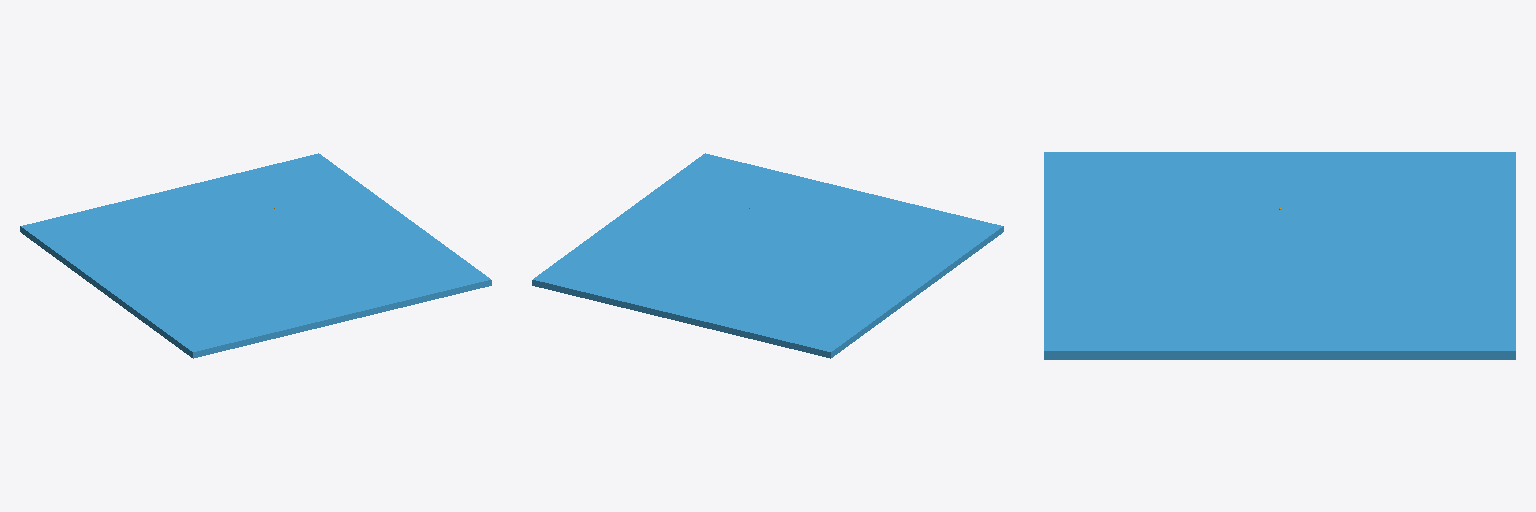
The robot description file, URDF, robot "panda":
<?xml version="1.0" encoding="utf-8"?>
<!-- =================================================================================== -->
<!-- |    This document is a hand edited version of the output autogenerated by xacro  | -->
<!-- |    from panda_arm.urdf.xacro                                                         | -->
<!-- =================================================================================== -->
<robot xmlns:drake="http://drake.mit.edu" name="panda">
  <link name="panda_link0">
    <inertial>
      <mass value="2.92"/>
      <origin xyz="-0.025566 -2.88e-05 0.057332" rpy="0 0 0"/>
      <inertia ixx="0.00782229414331" ixy="-1.56191622996e-05" ixz="-0.00126005738123" iyy="0.0109027971813" iyz="1.08233858202e-05" izz="0.0102355503949"/>
    </inertial>
    <visual>
      <origin rpy="1.57079632679 0 0"/>
      <geometry>
        <mesh filename="package://drake_models/franka_description/meshes/visual/link0.obj"/>
      </geometry>
    </visual>
    <collision>
      <origin rpy="0 0 0" xyz="0.02 0.0 0.04"/>
      <geometry>
        <sphere radius="0.06"/>
      </geometry>
    </collision>
    <collision>
      <origin rpy="0 0 0" xyz="0.01 0.05 0.06"/>
      <geometry>
        <sphere radius="0.06"/>
      </geometry>
    </collision>
    <collision>
      <origin rpy="0 0 0" xyz="0.01 -0.05 0.06"/>
      <geometry>
        <sphere radius="0.06"/>
      </geometry>
    </collision>
    <collision>
      <origin rpy="0 0 0" xyz="-0.06 0.0 0.06"/>
      <geometry>
        <sphere radius="0.06"/>
      </geometry>
    </collision>
    <collision>
      <origin rpy="0 0 0" xyz="-0.06 0.05 0.06"/>
      <geometry>
        <sphere radius="0.06"/>
      </geometry>
    </collision>
    <collision>
      <origin rpy="0 0 0" xyz="-0.03 0.05 0.06"/>
      <geometry>
        <sphere radius="0.06"/>
      </geometry>
    </collision>
    <collision>
      <origin rpy="0 0 0" xyz="-0.03 -0.05 0.06"/>
      <geometry>
        <sphere radius="0.06"/>
      </geometry>
    </collision>
    <collision>
      <origin rpy="0 0 0" xyz="-0.06 -0.05 0.06"/>
      <geometry>
        <sphere radius="0.06"/>
      </geometry>
    </collision>
    <collision>
      <origin rpy="0 0 0" xyz="-0.09 -0.05 0.06"/>
      <geometry>
        <sphere radius="0.06"/>
      </geometry>
    </collision>
    <collision>
      <origin rpy="0 0 0" xyz="-0.09 0.0 0.06"/>
      <geometry>
        <sphere radius="0.06"/>
      </geometry>
    </collision>
    <collision>
      <origin rpy="0 0 0" xyz="-0.09 0.05 0.06"/>
      <geometry>
        <sphere radius="0.06"/>
      </geometry>
    </collision>
    <collision>
      <origin rpy="0 0 0" xyz="-0.12 0.0 0.06"/>
      <geometry>
        <sphere radius="0.06"/>
      </geometry>
    </collision>
    <collision>
      <origin rpy="0 0 0" xyz="0.0 0.0 0.113"/>
      <geometry>
        <sphere radius="0.06"/>
      </geometry>
    </collision>
    <collision>
      <origin rpy="0 0 0" xyz="0.0 0.0 0.083"/>
      <geometry>
        <sphere radius="0.06"/>
      </geometry>
    </collision>
  </link>
  <link name="panda_link1">
    <inertial>
      <mass value="2.74"/>
      <origin xyz="0 -0.0324958 -0.0675818" rpy="0 0 0"/>
      <inertia ixx="0.0180416958283" ixy="0.0" ixz="0.0" iyy="0.0159136071891" iyz="0.0046758424612" izz="0.00620690827127"/>
    </inertial>
    <visual>
      <origin rpy="1.57079632679 0 0"/>
      <geometry>
        <mesh filename="package://drake_models/franka_description/meshes/visual/link1.obj"/>
      </geometry>
    </visual>
    <collision>
      <origin rpy="0 0 0" xyz="0.0 0.0 -0.13"/>
      <geometry>
        <sphere radius="0.06"/>
      </geometry>
    </collision>
    <collision>
      <origin rpy="0 0 0" xyz="0.0 0.0 -0.16"/>
      <geometry>
        <sphere radius="0.06"/>
      </geometry>
    </collision>
    <collision>
      <origin rpy="0 0 0" xyz="0.0 0.0 -0.19"/>
      <geometry>
        <sphere radius="0.06"/>
      </geometry>
    </collision>
    <collision>
      <origin rpy="0 0 0" xyz="0.0 -0.04 -0.06"/>
      <geometry>
        <sphere radius="0.06"/>
      </geometry>
    </collision>
    <collision>
      <origin rpy="0 0 0" xyz="0.0 -0.0750 -0.0"/>
      <geometry>
        <sphere radius="0.06"/>
      </geometry>
    </collision>
    <collision>
      <origin rpy="0 0 0" xyz="0.0 -0.0350 -0.0"/>
      <geometry>
        <sphere radius="0.06"/>
      </geometry>
    </collision>
  </link>
  <joint name="panda_joint1" type="revolute">
    <origin rpy="0 0 0" xyz="0 0 0.333"/>
    <parent link="panda_link0"/>
    <child link="panda_link1"/>
    <axis xyz="0 0 1"/>
    <limit effort="87" lower="-2.8973" upper="2.8973" velocity="2.1750"/>
  </joint>
  <link name="panda_link2">
    <inertial>
      <mass value="2.74"/>
      <origin xyz="0 -0.06861 0.0322285" rpy="0 0 0"/>
      <inertia ixx="0.0182856182281" ixy="0.0" ixz="0.0" iyy="0.00621358421175" iyz="-0.00472844221905" izz="0.0161514346309"/>
    </inertial>
    <visual>
      <origin rpy="1.57079632679 0 0"/>
      <geometry>
        <mesh filename="package://drake_models/franka_description/meshes/visual/link2.obj"/>
      </geometry>
    </visual>
    <collision>
      <origin rpy="0 0 0" xyz="0.0 0.0 0.0"/>
      <geometry>
        <sphere radius="0.06"/>
      </geometry>
    </collision>
    <collision>
      <origin rpy="0 0 0" xyz="0.0 0.0 0.035"/>
      <geometry>
        <sphere radius="0.06"/>
      </geometry>
    </collision>
    <collision>
      <origin rpy="0 0 0" xyz="0.0 0.0 0.075"/>
      <geometry>
        <sphere radius="0.06"/>
      </geometry>
    </collision>
    <collision>
      <origin rpy="0 0 0" xyz="0.0 -0.1710 0.0"/>
      <geometry>
        <sphere radius="0.06"/>
      </geometry>
    </collision>
    <collision>
      <origin rpy="0 0 0" xyz="0.0 -0.1360 0.0"/>
      <geometry>
        <sphere radius="0.06"/>
      </geometry>
    </collision>
    <collision>
      <origin rpy="0 0 0" xyz="0.0 -0.070 0.040"/>
      <geometry>
        <sphere radius="0.06"/>
      </geometry>
    </collision>
  </link>
  <joint name="panda_joint2" type="revolute">
    <origin rpy="-1.57079632679 0 0" xyz="0 0 0"/>
    <parent link="panda_link1"/>
    <child link="panda_link2"/>
    <axis xyz="0 0 1"/>
    <limit effort="87" lower="-1.7628" upper="1.7628" velocity="2.1750"/>
  </joint>
  <link name="panda_link3">
    <inertial>
      <mass value="2.38"/>
      <origin xyz="0.0469893 0.0316374 -0.031704" rpy="0 0 0"/>
      <inertia ixx="0.00771376630908" ixy="-0.00248490625138" ixz="-0.00332147581033" iyy="0.00989108008727" iyz="-0.00217796151484" izz="0.00811723558464"/>
    </inertial>
    <visual>
      <origin rpy="1.57079632679 0 0"/>
      <geometry>
        <mesh filename="package://drake_models/franka_description/meshes/visual/link3.obj"/>
      </geometry>
    </visual>
    <collision>
      <origin rpy="0 0 0" xyz="0.0 0.0 -0.11"/>
      <geometry>
        <sphere radius="0.06"/>
      </geometry>
    </collision>
    <collision>
      <origin rpy="0 0 0" xyz="0.0 0.0 -0.07"/>
      <geometry>
        <sphere radius="0.06"/>
      </geometry>
    </collision>
    <collision>
      <origin rpy="0 0 0" xyz="0.0825 0.03 -0.0"/>
      <geometry>
        <sphere radius="0.06"/>
      </geometry>
    </collision>
    <collision>
      <origin rpy="0 0 0" xyz="0.0825 0.06 -0.0"/>
      <geometry>
        <sphere radius="0.06"/>
      </geometry>
    </collision>
    <collision>
      <origin rpy="0 0 0" xyz="0.04 0.03 -0.03"/>
      <geometry>
        <sphere radius="0.06"/>
      </geometry>
    </collision>
  </link>
  <joint name="panda_joint3" type="revolute">
    <origin rpy="1.57079632679 0 0" xyz="0 -0.316 0"/>
    <parent link="panda_link2"/>
    <child link="panda_link3"/>
    <axis xyz="0 0 1"/>
    <limit effort="87" lower="-2.8973" upper="2.8973" velocity="2.1750"/>
  </joint>
  <link name="panda_link4">
    <inertial>
      <mass value="2.38"/>
      <origin xyz="-0.0360446 0.0336853 0.031882" rpy="0 0 0"/>
      <inertia ixx="0.00799663881132" ixy="0.00347095570217" ixz="-0.00241222942995" iyy="0.00825390705278" iyz="0.00235774044121" izz="0.0102515004345"/>
    </inertial>
    <visual>
      <origin rpy="1.57079632679 0 0"/>
      <geometry>
        <mesh filename="package://drake_models/franka_description/meshes/visual/link4.obj"/>
      </geometry>
    </visual>
    <collision>
      <origin rpy="0 0 0" xyz="0.0 0.0 0.06"/>
      <geometry>
        <sphere radius="0.06"/>
      </geometry>
    </collision>
    <collision>
      <origin rpy="0 0 0" xyz="0.0 0.0 0.03"/>
      <geometry>
        <sphere radius="0.06"/>
      </geometry>
    </collision>
    <collision>
      <origin rpy="0 0 0" xyz="-0.0350 0.03 0.04"/>
      <geometry>
        <sphere radius="0.05"/>
      </geometry>
    </collision>
    <collision>
      <origin rpy="0 0 0" xyz="-0.05 0.04 0.01"/>
      <geometry>
        <sphere radius="0.055"/>
      </geometry>
    </collision>
    <collision>
      <origin rpy="0 0 0" xyz="0.0 0.0 0.0"/>
      <geometry>
        <sphere radius="0.06"/>
      </geometry>
    </collision>
    <collision>
      <origin rpy="0 0 0" xyz="-0.0825 0.0640 -0.0"/>
      <geometry>
        <sphere radius="0.06"/>
      </geometry>
    </collision>
    <collision>
      <origin rpy="0 0 0" xyz="-0.0825 0.1040 -0.0"/>
      <geometry>
        <sphere radius="0.06"/>
      </geometry>
    </collision>
  </link>
  <joint name="panda_joint4" type="revolute">
    <origin rpy="1.57079632679 0 0" xyz="0.0825 0 0"/>
    <parent link="panda_link3"/>
    <child link="panda_link4"/>
    <axis xyz="0 0 1"/>
    <limit effort="87" lower="-3.0718" upper="-0.0698" velocity="2.1750"/>
  </joint>
  <link name="panda_link5">
    <inertial>
      <mass value="2.74"/>
      <origin xyz="0 0.0610427 -0.104176" rpy="0 0 0"/>
      <inertia ixx="0.030371374513" ixy="6.50283587108e-07" ixz="-1.05129179916e-05" iyy="0.0288752887402" iyz="-0.00775653445787" izz="0.00444134056164"/>
    </inertial>
    <visual>
      <origin rpy="1.57079632679 0 0"/>
      <geometry>
        <mesh filename="package://drake_models/franka_description/meshes/visual/link5.obj"/>
      </geometry>
    </visual>
    <collision>
      <origin rpy="0 0 0" xyz="0.0 0.0 -0.24"/>
      <geometry>
        <sphere radius="0.06"/>
      </geometry>
    </collision>
    <collision>
      <origin rpy="0 0 0" xyz="0.0 0.0 -0.21"/>
      <geometry>
        <sphere radius="0.06"/>
      </geometry>
    </collision>
    <collision>
      <origin rpy="0 0 0" xyz="0.0 0.09 -0.055"/>
      <geometry>
        <sphere radius="0.035"/>
      </geometry>
    </collision>
    <collision>
      <origin rpy="0 0 0" xyz="0.0 0.0850 -0.08"/>
      <geometry>
        <sphere radius="0.035"/>
      </geometry>
    </collision>
    <collision>
      <origin rpy="0 0 0" xyz="0.0 0.0850 -0.11"/>
      <geometry>
        <sphere radius="0.035"/>
      </geometry>
    </collision>
    <collision>
      <origin rpy="0 0 0" xyz="0.0 0.08 -0.13"/>
      <geometry>
        <sphere radius="0.035"/>
      </geometry>
    </collision>
    <collision>
      <origin rpy="0 0 0" xyz="0.0 0.08 -0.15"/>
      <geometry>
        <sphere radius="0.035"/>
      </geometry>
    </collision>
    <collision>
      <origin rpy="0 0 0" xyz="0.0 0.07 -0.16"/>
      <geometry>
        <sphere radius="0.04"/>
      </geometry>
    </collision>
    <collision>
      <origin rpy="0 0 0" xyz="0.0 0.08 -0.02"/>
      <geometry>
        <sphere radius="0.05"/>
      </geometry>
    </collision>
    <collision>
      <origin rpy="0 0 0" xyz="0.0 0.08 -0.0"/>
      <geometry>
        <sphere radius="0.055"/>
      </geometry>
    </collision>
    <collision>
      <origin rpy="0 0 0" xyz="0.0 0.05 -0.20"/>
      <geometry>
        <sphere radius="0.055"/>
      </geometry>
    </collision>
    <collision>
      <origin rpy="0 0 0" xyz="0.0 0.07 -0.0"/>
      <geometry>
        <sphere radius="0.06"/>
      </geometry>
    </collision>
  </link>
  <joint name="panda_joint5" type="revolute">
    <origin rpy="-1.57079632679 0 0" xyz="-0.0825 0.384 0"/>
    <parent link="panda_link4"/>
    <child link="panda_link5"/>
    <axis xyz="0 0 1"/>
    <limit effort="12" lower="-2.8973" upper="2.8973" velocity="2.610"/>
  </joint>
  <link name="panda_link6">
    <inertial>
      <mass value="1.55"/>
      <origin xyz="0.0510509 0.009108 0.0106343" rpy="0 0 0"/>
      <inertia ixx="0.00303336450376" ixy="-0.000437276865508" ixz="0.000629257294877" iyy="0.00404479911567" iyz="0.000130472021025" izz="0.00558234286039"/>
    </inertial>
    <visual>
      <origin rpy="1.57079632679 0 0"/>
      <geometry>
        <mesh filename="package://drake_models/franka_description/meshes/visual/link6.obj"/>
      </geometry>
    </visual>
    <collision>
      <origin rpy="0 0 0" xyz="0.08 0.03 0.0"/>
      <geometry>
        <sphere radius="0.06"/>
      </geometry>
    </collision>
    <collision>
      <origin rpy="0 0 0" xyz="0.04 0.01 0.0"/>
      <geometry>
        <sphere radius="0.06"/>
      </geometry>
    </collision>
    <collision>
      <origin rpy="0 0 0" xyz="0.04 0.0 0.0"/>
      <geometry>
        <sphere radius="0.06"/>
      </geometry>
    </collision>
    <collision>
      <origin rpy="0 0 0" xyz="0.0 0.0 0.01"/>
      <geometry>
        <sphere radius="0.06"/>
      </geometry>
    </collision>
    <collision>
      <origin rpy="0 0 0" xyz="0.0 0.0 -0.03"/>
      <geometry>
        <sphere radius="0.05"/>
      </geometry>
    </collision>
  </link>
  <joint name="panda_joint6" type="revolute">
    <origin rpy="1.57079632679 0 0" xyz="0 0 0"/>
    <parent link="panda_link5"/>
    <child link="panda_link6"/>
    <axis xyz="0 0 1"/>
    <limit effort="12" lower="-0.0175" upper="3.7525" velocity="2.610"/>
  </joint>
  <link name="panda_link7">
    <inertial>
      <mass value="0.54"/>
      <origin xyz="0.0109695 0.0107965 0.0650411" rpy="0 0 0"/>
      <inertia ixx="0.000888868887021" ixy="-0.00012239074652" ixz="3.98699829666e-05" iyy="0.000888001373233" iyz="-9.33825115206e-05" izz="0.0007176834609"/>
    </inertial>
    <visual>
      <origin rpy="1.57079632679 0 0"/>
      <geometry>
        <mesh filename="package://drake_models/franka_description/meshes/visual/link7.obj"/>
      </geometry>
    </visual>
    <collision>
      <origin rpy="0 0 0" xyz="0 0 0.06"/>
      <geometry>
        <sphere radius="0.06"/>
      </geometry>
    </collision>
    <collision>
      <origin rpy="0 0 0" xyz="0 0 0.01"/>
      <geometry>
        <sphere radius="0.05"/>
      </geometry>
    </collision>
  </link>
  <joint name="panda_joint7" type="revolute">
    <origin rpy="1.57079632679 0 0" xyz="0.088 0 0"/>
    <parent link="panda_link6"/>
    <child link="panda_link7"/>
    <axis xyz="0 0 1"/>
    <limit effort="12" lower="-2.8973" upper="2.8973" velocity="2.610"/>
  </joint>
  <link name="panda_link8">
    <collision>
      <origin rpy="0 0 0" xyz="0 0 0.05"/>
      <geometry>
        <sphere radius="0.01"/>
      </geometry>
    </collision>
    <visual>
      <origin rpy="0 0 0" xyz="0 0 0.05"/>
      <geometry>
        <sphere radius="0.01"/>
      </geometry>
    </visual>
  </link>
  <joint name="panda_joint8" type="fixed">
    <origin rpy="0 0 0" xyz="0 0 0.107"/>
    <parent link="panda_link7"/>
    <child link="panda_link8"/>
  </joint>
  <transmission name="panda_tran1">
    <type>transmission_interface/SimpleTransmission</type>
    <joint name="panda_joint1">
      <hardwareInterface>PositionJointInterface</hardwareInterface>
    </joint>
    <actuator name="panda_motor1">
      <hardwareInterface>PositionJointInterface</hardwareInterface>
      <mechanicalReduction>1</mechanicalReduction>
    </actuator>
  </transmission>
  <transmission name="panda_tran2">
    <type>transmission_interface/SimpleTransmission</type>
    <joint name="panda_joint2">
      <hardwareInterface>PositionJointInterface</hardwareInterface>
    </joint>
    <actuator name="panda_motor2">
      <hardwareInterface>PositionJointInterface</hardwareInterface>
      <mechanicalReduction>1</mechanicalReduction>
    </actuator>
  </transmission>
  <transmission name="panda_tran3">
    <type>transmission_interface/SimpleTransmission</type>
    <joint name="panda_joint3">
      <hardwareInterface>PositionJointInterface</hardwareInterface>
    </joint>
    <actuator name="panda_motor3">
      <hardwareInterface>PositionJointInterface</hardwareInterface>
      <mechanicalReduction>1</mechanicalReduction>
    </actuator>
  </transmission>
  <transmission name="panda_tran4">
    <type>transmission_interface/SimpleTransmission</type>
    <joint name="panda_joint4">
      <hardwareInterface>PositionJointInterface</hardwareInterface>
    </joint>
    <actuator name="panda_motor4">
      <hardwareInterface>PositionJointInterface</hardwareInterface>
      <mechanicalReduction>1</mechanicalReduction>
    </actuator>
  </transmission>
  <transmission name="panda_tran5">
    <type>transmission_interface/SimpleTransmission</type>
    <joint name="panda_joint5">
      <hardwareInterface>PositionJointInterface</hardwareInterface>
    </joint>
    <actuator name="panda_motor5">
      <hardwareInterface>PositionJointInterface</hardwareInterface>
      <mechanicalReduction>1</mechanicalReduction>
    </actuator>
  </transmission>
  <transmission name="panda_tran6">
    <type>transmission_interface/SimpleTransmission</type>
    <joint name="panda_joint6">
      <hardwareInterface>PositionJointInterface</hardwareInterface>
    </joint>
    <actuator name="panda_motor6">
      <hardwareInterface>PositionJointInterface</hardwareInterface>
      <mechanicalReduction>1</mechanicalReduction>
    </actuator>
  </transmission>
  <transmission name="panda_tran7">
    <type>transmission_interface/SimpleTransmission</type>
    <joint name="panda_joint7">
      <hardwareInterface>PositionJointInterface</hardwareInterface>
    </joint>
    <actuator name="panda_motor7">
      <hardwareInterface>PositionJointInterface</hardwareInterface>
      <mechanicalReduction>1</mechanicalReduction>
    </actuator>
  </transmission>
  <drake:collision_filter_group name="group_link57">
    <drake:member link="panda_link5"/>
    <drake:member link="panda_link7"/>
    <drake:ignored_collision_filter_group name="group_link57"/>
  </drake:collision_filter_group>
  
	<link name="box">
    <inertial>
      <mass value="1"/>
      <!-- Inertia values were calculated to be consistent with the mass and
           geometry size, assuming a uniform density. -->
     <inertia ixx="100"  ixy="0"  ixz="0" iyy="100" iyz="0" izz="100" />
    </inertial>
    <visual>
      <geometry>
        <box size="5 5 0.1"/>
      </geometry>
    </visual>
   <collision name="box">
      <geometry>
        <box size="5 5 0.1"/>
      </geometry>
                  <drake:proximity_properties>
        <drake:mu_static value="1"/>
        <drake:mu_dynamic value="1"/>
      </drake:proximity_properties>
    </collision>
    <contact>
            <!-- TODO: not sure if these values make sense -->
            <!-- TODO: are these values even read by pybullet? -->
            <lateral_friction value="0.0"/>
            <rolling_friction value="0.0"/>
            <contact_cfm value="0.0"/>
            <contact_erp value="0.0"/>
        </contact>
  </link>
  
   <joint name="box_to_base" type="fixed">
    <parent link="panda_link0"/>
    <child link="box"/>
    <origin xyz="0 0 -0.05"/>
  </joint>


   <drake:collision_filter_group name="box_group">
  <drake:member link="box"/>
  <drake:ignored_collision_filter_group name="box_group"/>
  </drake:collision_filter_group>

  
</robot>

--- Render facts (derived) ---
Views: 3 orthographic renders of the robot side by side, from view 1: azimuth 30°, elevation 25°; view 2: azimuth 150°, elevation 25°; view 3: azimuth 270°, elevation 25°.
Model panda with 10 links and 9 joints (7 revolute, 2 fixed), rooted at panda_link0, posed joints at zero except 1 at the middle of their limits (panda_joint4 = -1.57).
Links seen in each view (by area): view 1: box; view 2: box; view 3: box.
Boxes of the visible links, x1,y1,x2,y2 form: box: (20,153,491,358); box: (532,153,1003,358); box: (1044,152,1515,359).
Bounding box of the posed robot: 5 × 5 × 0.7535 m (x, y, z).
0 mesh visuals loaded from 8 distinct referenced files (none loaded); not drawn: 8 (reference not matched to a file when rendering).